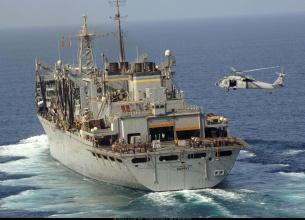airplane: (214, 53, 289, 92)
warship: (34, 1, 241, 192)
